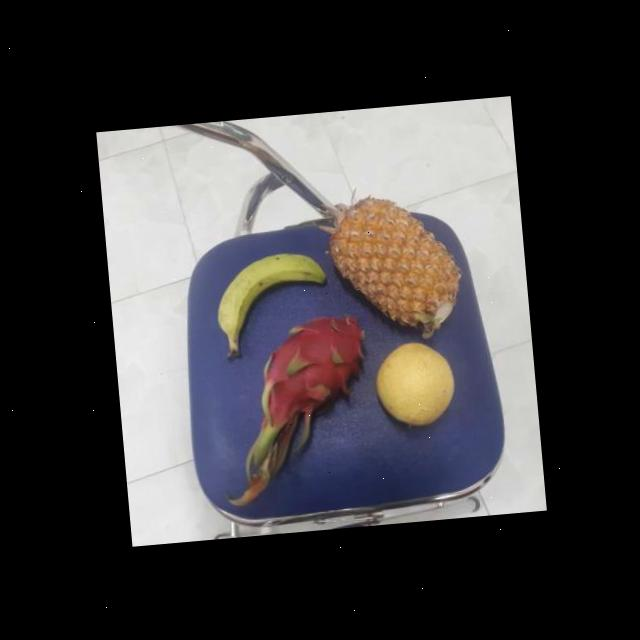banana: (212, 245, 334, 351)
pear: (371, 337, 458, 427)
pineapple: (326, 190, 464, 340)
pitaya: (252, 312, 380, 427)
